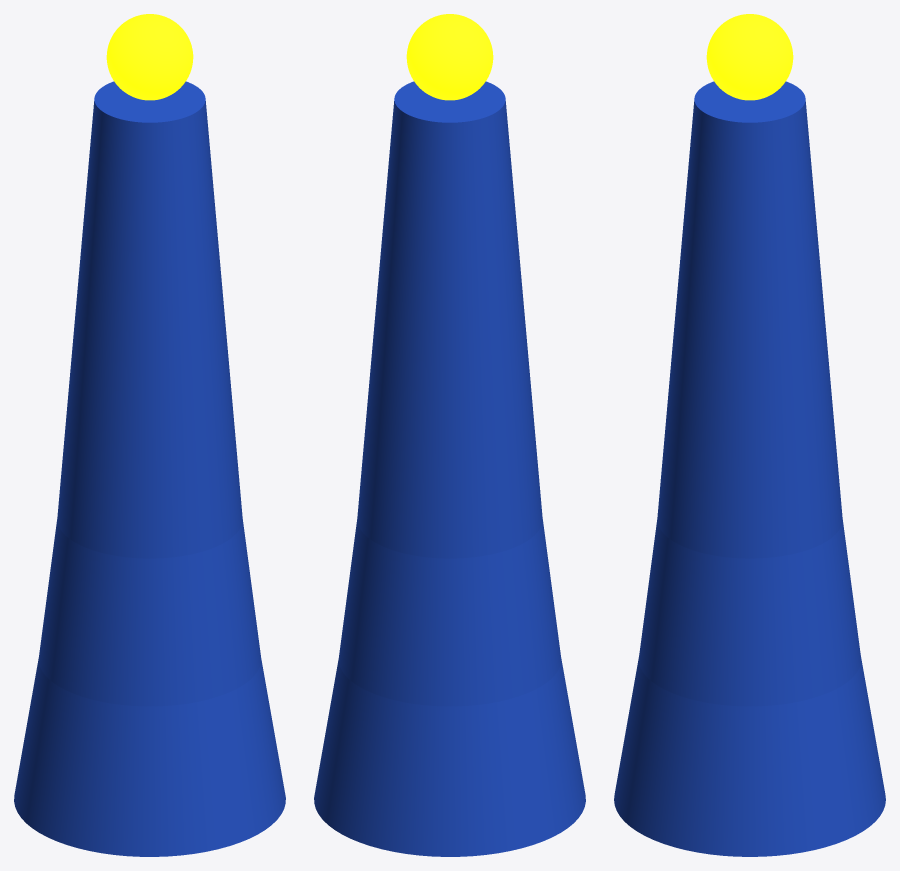
The model's file is finish_tower.glb.
The picture shows the model from 3 angles, left to right: view 1: azimuth 30°, elevation 25°; view 2: azimuth 150°, elevation 25°; view 3: azimuth 270°, elevation 25°; orthographic projection.
Parts seen in each view (by area): view 1: _MeshInstance3D_38, _MeshInstance3D_39, _MeshInstance3D_40, _MeshInstance3D_41, _MeshInstance3D_42, _MeshInstance3D_43; view 2: _MeshInstance3D_38, _MeshInstance3D_39, _MeshInstance3D_40, _MeshInstance3D_41, _MeshInstance3D_42, _MeshInstance3D_43; view 3: _MeshInstance3D_38, _MeshInstance3D_39, _MeshInstance3D_40, _MeshInstance3D_41, _MeshInstance3D_42, _MeshInstance3D_43.
Boxes of the visible parts, x1=… form: _MeshInstance3D_38: x1=14, y1=657, x2=285, y2=856; _MeshInstance3D_39: x1=38, y1=519, x2=261, y2=706; _MeshInstance3D_40: x1=57, y1=380, x2=242, y2=558; _MeshInstance3D_41: x1=69, y1=241, x2=230, y2=413; _MeshInstance3D_42: x1=82, y1=81, x2=217, y2=267; _MeshInstance3D_43: x1=106, y1=14, x2=193, y2=100; _MeshInstance3D_38: x1=314, y1=657, x2=585, y2=856; _MeshInstance3D_39: x1=338, y1=519, x2=561, y2=706; _MeshInstance3D_40: x1=357, y1=380, x2=542, y2=558; _MeshInstance3D_41: x1=369, y1=241, x2=530, y2=413; _MeshInstance3D_42: x1=382, y1=81, x2=517, y2=267; _MeshInstance3D_43: x1=406, y1=14, x2=493, y2=100; _MeshInstance3D_38: x1=614, y1=657, x2=885, y2=856; _MeshInstance3D_39: x1=638, y1=520, x2=861, y2=706; _MeshInstance3D_40: x1=657, y1=381, x2=842, y2=558; _MeshInstance3D_41: x1=669, y1=241, x2=830, y2=413; _MeshInstance3D_42: x1=682, y1=81, x2=817, y2=267; _MeshInstance3D_43: x1=706, y1=14, x2=793, y2=100.
Bounding box in the file's own units: 4.4 × 13.95 × 4.4.
